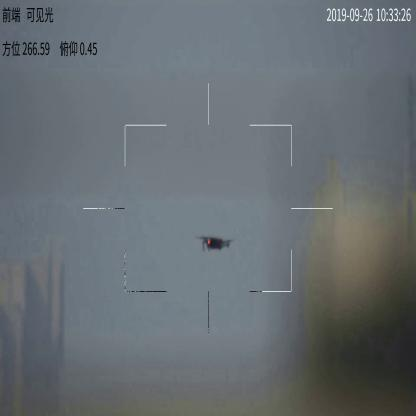uav: (195, 233, 236, 255)
